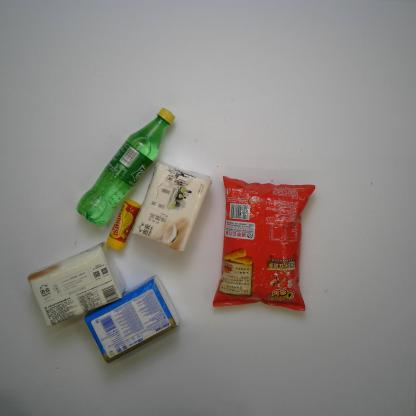Candy: (104, 197, 142, 255)
Drink: (72, 107, 176, 227)
Puffed Food: (211, 176, 317, 312)
Tissue: (83, 274, 181, 366), (26, 240, 128, 328), (129, 160, 212, 253)
